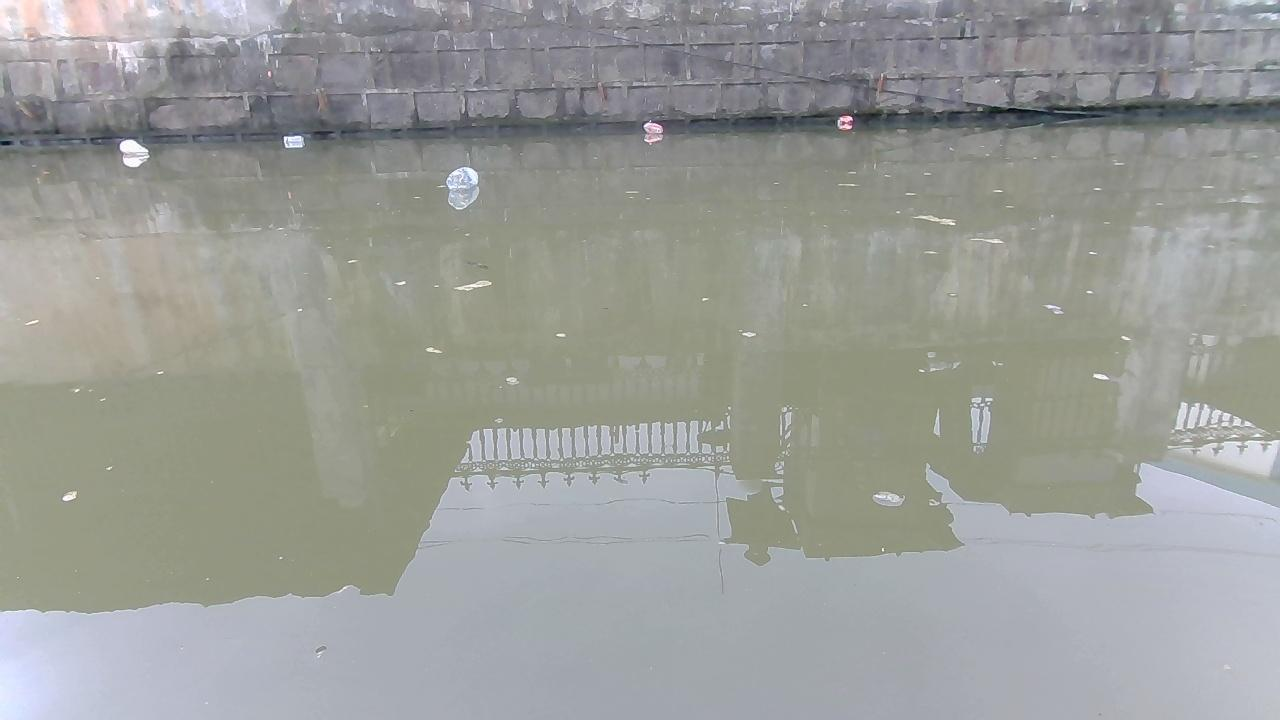bottle: (445, 168, 482, 197), (117, 137, 149, 159), (277, 136, 302, 152), (642, 124, 664, 141), (836, 112, 849, 126)
